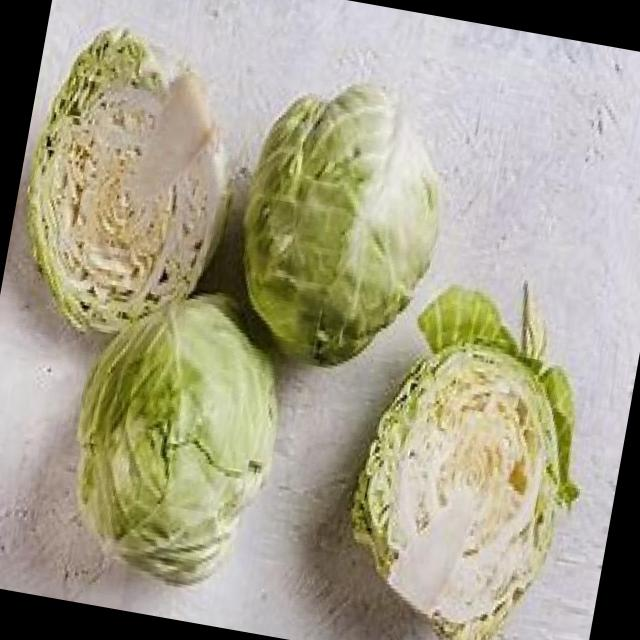cabbage: (337, 288, 602, 640), (45, 278, 312, 594), (207, 54, 463, 376), (3, 14, 252, 342)
